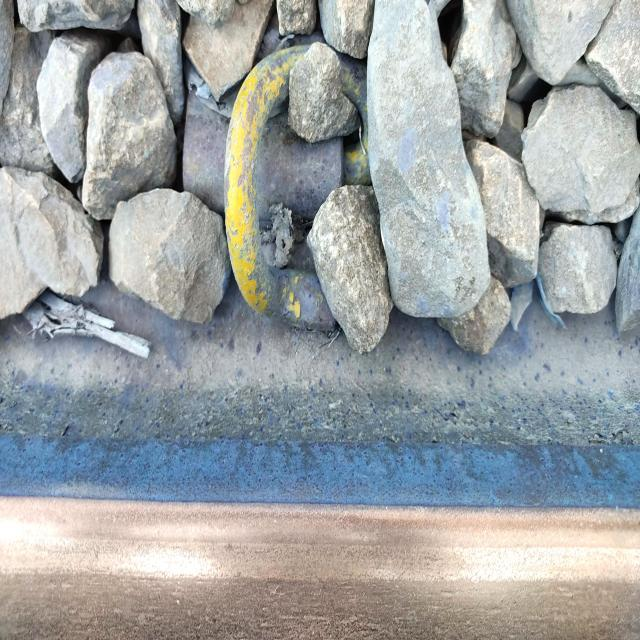Good Fasteners: (182, 51, 382, 342)
